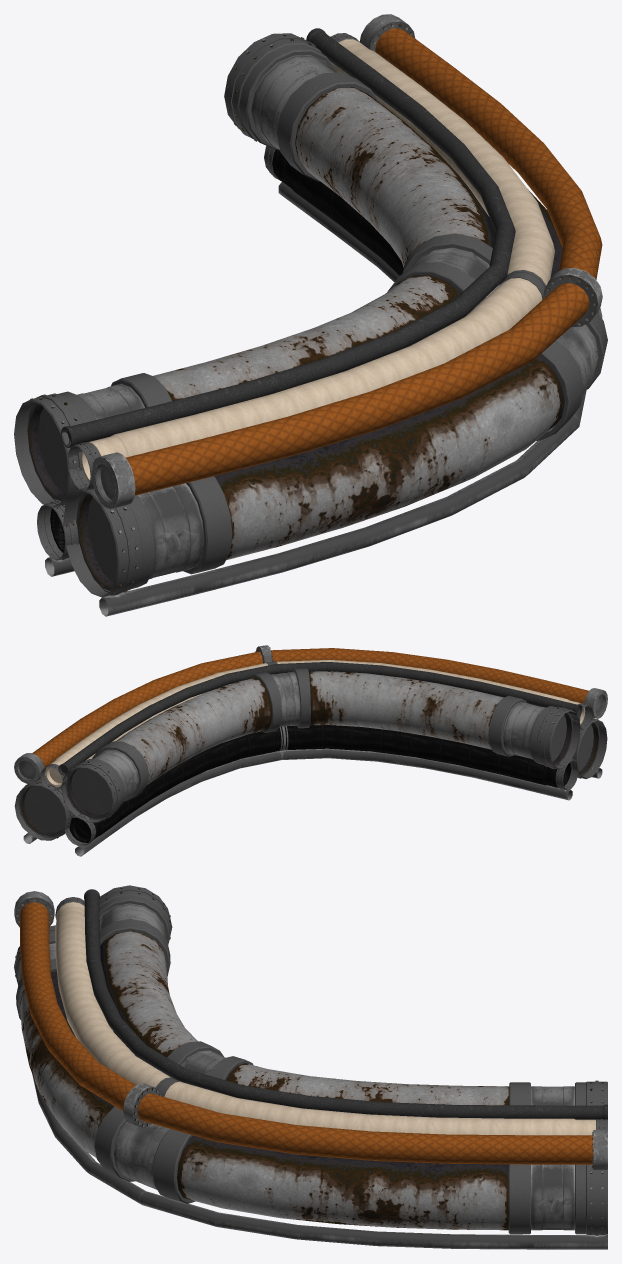
Rendered from Sci-Fi PipelineL.fbx.
The picture shows the model from 3 angles, top to bottom: view 1: azimuth 30°, elevation 25°; view 2: azimuth 150°, elevation 25°; view 3: azimuth 270°, elevation 25°; orthographic projection. The views are drawn at different scales.
Visible parts, largest first — view 1: PipeLineL.002; view 2: PipeLineL.002; view 3: PipeLineL.002.
Boxes of the visible parts, x1,y1,x2,y2 form: PipeLineL.002: (14, 14, 607, 616); PipeLineL.002: (14, 645, 607, 856); PipeLineL.002: (14, 885, 607, 1249).
Size of the model in its own units: 805 by 188 by 811.
